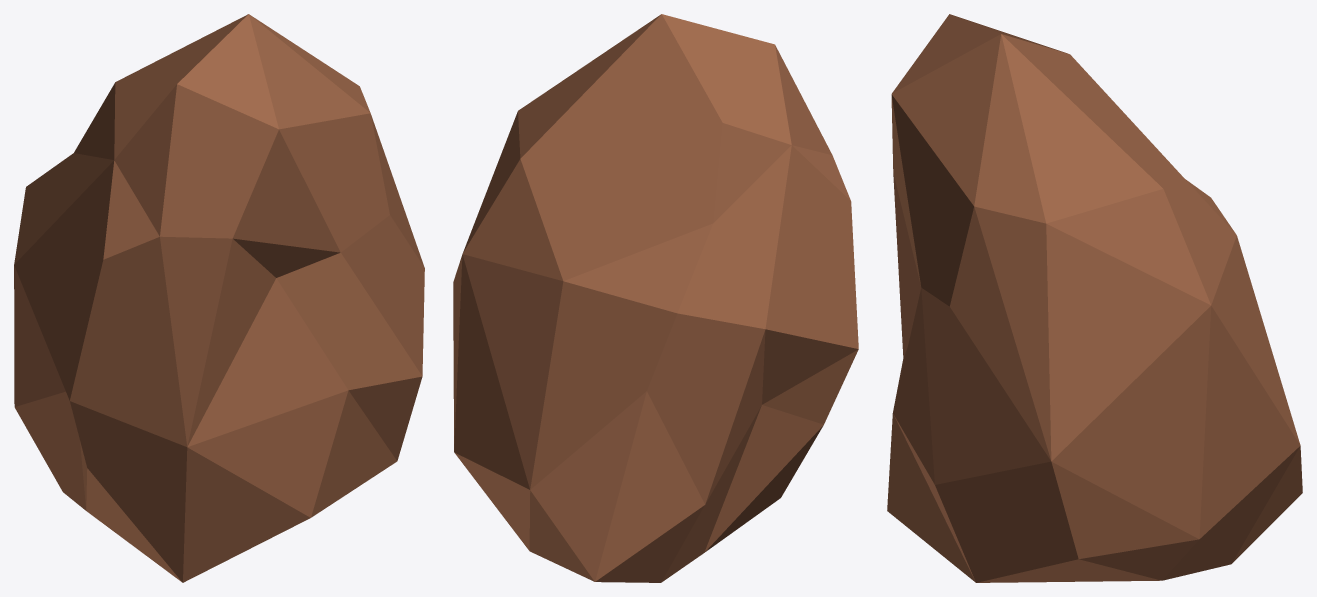
Rendered from Small_HighRock.fbx.
The picture shows the model from 3 angles, left to right: view 1: azimuth 30°, elevation 25°; view 2: azimuth 150°, elevation 25°; view 3: azimuth 270°, elevation 25°; orthographic projection. The views are drawn at different scales.
Visible parts, largest first — view 1: Small_HighRock; view 2: Small_HighRock; view 3: Small_HighRock.
Part boxes in pixels (left/top/right/bottom): Small_HighRock: left=14, top=14, right=424, bottom=582; Small_HighRock: left=453, top=14, right=858, bottom=582; Small_HighRock: left=887, top=14, right=1302, bottom=582.
Bounding box in the file's own units: 4.38 × 5.52 × 3.89.
